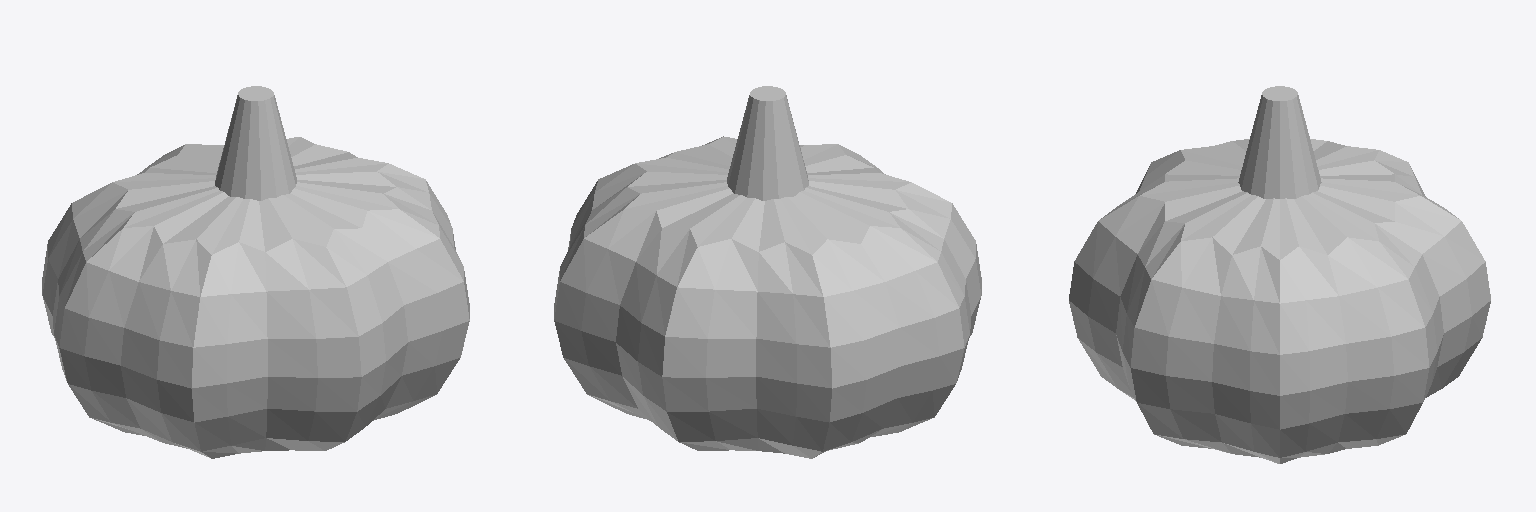
File: pumpkin.obj
3 views of the same model, side by side, from view 1: azimuth 30°, elevation 25°; view 2: azimuth 150°, elevation 25°; view 3: azimuth 270°, elevation 25° (orthographic).
Parts seen in each view (by area): view 1: Pumpkin; view 2: Pumpkin; view 3: Pumpkin.
Part boxes in pixels (x1,y1,x2,y2): Pumpkin: (42, 86, 469, 458); Pumpkin: (554, 86, 981, 458); Pumpkin: (1069, 86, 1490, 463).
Size of the model in its own units: 3.03 by 2.39 by 2.82.